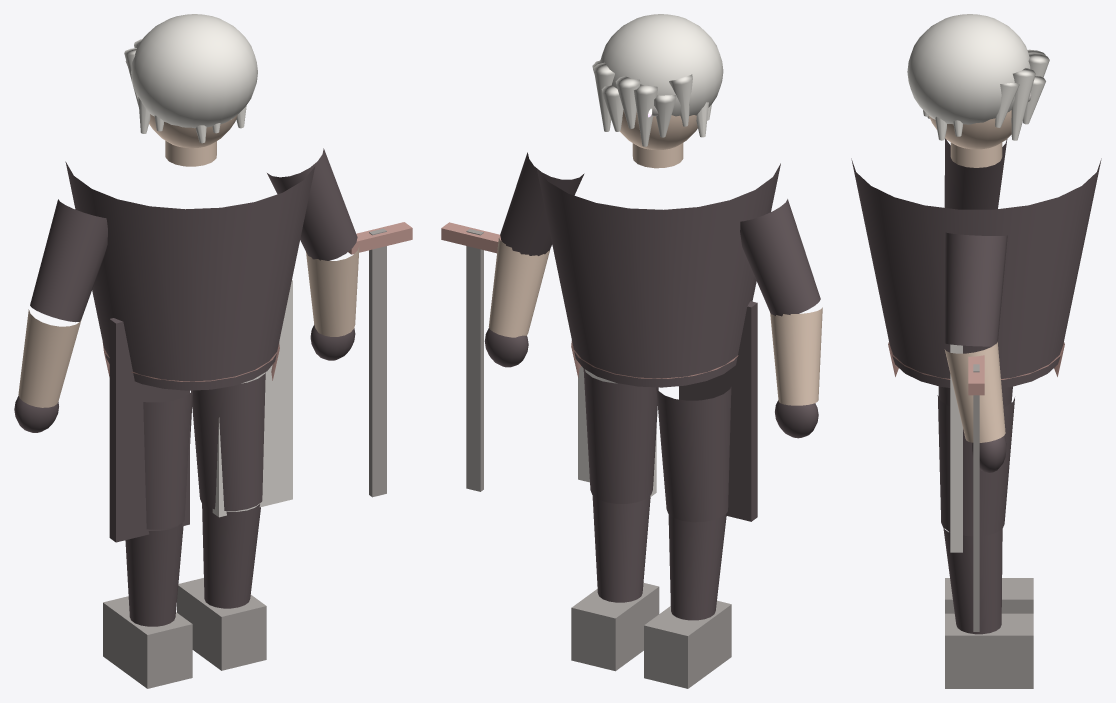
Rendered from spinoza-procedural-v1.glb.
The picture shows the model from 3 angles, left to right: view 1: azimuth 30°, elevation 25°; view 2: azimuth 150°, elevation 25°; view 3: azimuth 270°, elevation 25°; orthographic projection. The views are drawn at different scales.
Parts seen in each view (by area): view 1: Outfit_Torso, Hair_Cap, Body_Thigh_R, Outfit_CoatTail_L, Body_UpperArm_L, Outfit_Boot_L, Body_Thigh_L, Outfit_CoatTail_R, Outfit_Boot_R, Body_Shin_R, Body_Shin_L, Weapon_SwordBlade (+8 smaller); view 2: Outfit_Torso, Body_Thigh_L, Body_Thigh_R, Hair_Cap, Outfit_CoatTail_L, Body_UpperArm_L, Outfit_Boot_L, Outfit_Boot_R, Body_Shin_R, Body_Shin_L, Weapon_SwordBlade, Body_Forearm_L (+14 smaller); view 3: Outfit_Torso, Hair_Cap, Body_UpperArm_R, Outfit_Boot_R, Body_Thigh_R, Body_Shin_R, Body_Forearm_R, Body_UpperArm_L, Outfit_CoatTail_R, Weapon_SwordBlade, Body_Head, Outfit_Boot_L (+9 smaller).
Part boxes in pixels (left/top/right/bottom): Outfit_Torso: left=65, top=161, right=315, bottom=390; Hair_Cap: left=131, top=14, right=257, bottom=128; Body_Thigh_R: left=191, top=372, right=265, bottom=510; Outfit_CoatTail_L: left=109, top=318, right=189, bottom=542; Body_UpperArm_L: left=30, top=199, right=107, bottom=322; Outfit_Boot_L: left=103, top=596, right=192, bottom=688; Body_Thigh_L: left=143, top=390, right=192, bottom=529; Outfit_CoatTail_R: left=212, top=280, right=292, bottom=517; Outfit_Boot_R: left=177, top=578, right=266, bottom=670; Body_Shin_R: left=202, top=503, right=260, bottom=608; Body_Shin_L: left=125, top=523, right=183, bottom=626; Weapon_SwordBlade: left=369, top=228, right=386, bottom=497; Outfit_Torso: left=536, top=163, right=780, bottom=387; Body_Thigh_L: left=656, top=387, right=731, bottom=522; Body_Thigh_R: left=583, top=369, right=658, bottom=503; Hair_Cap: left=600, top=14, right=723, bottom=116; Outfit_CoatTail_L: left=679, top=301, right=757, bottom=521; Body_UpperArm_L: left=740, top=199, right=820, bottom=316; Outfit_Boot_L: left=644, top=600, right=731, bottom=688; Outfit_Boot_R: left=571, top=583, right=659, bottom=671; Body_Shin_R: left=592, top=495, right=650, bottom=602; Body_Shin_L: left=668, top=514, right=726, bottom=620; Weapon_SwordBlade: left=466, top=229, right=483, bottom=491; Body_Forearm_L: left=770, top=307, right=822, bottom=405; Outfit_Torso: left=851, top=158, right=1101, bottom=387; Hair_Cap: left=907, top=14, right=1030, bottom=124; Body_UpperArm_R: left=944, top=232, right=1007, bottom=346; Outfit_Boot_R: left=945, top=613, right=1033, bottom=688; Body_Thigh_R: left=937, top=395, right=1014, bottom=536; Body_Shin_R: left=943, top=528, right=1002, bottom=634; Body_Forearm_R: left=944, top=342, right=1005, bottom=442; Body_UpperArm_L: left=944, top=138, right=1007, bottom=209; Outfit_CoatTail_R: left=950, top=344, right=962, bottom=552; Weapon_SwordBlade: left=973, top=364, right=979, bottom=631; Body_Head: left=928, top=110, right=1011, bottom=149; Outfit_Boot_L: left=945, top=578, right=1033, bottom=613.
Bounding box in the file's own units: 1.22 × 1.95 × 0.6915.
